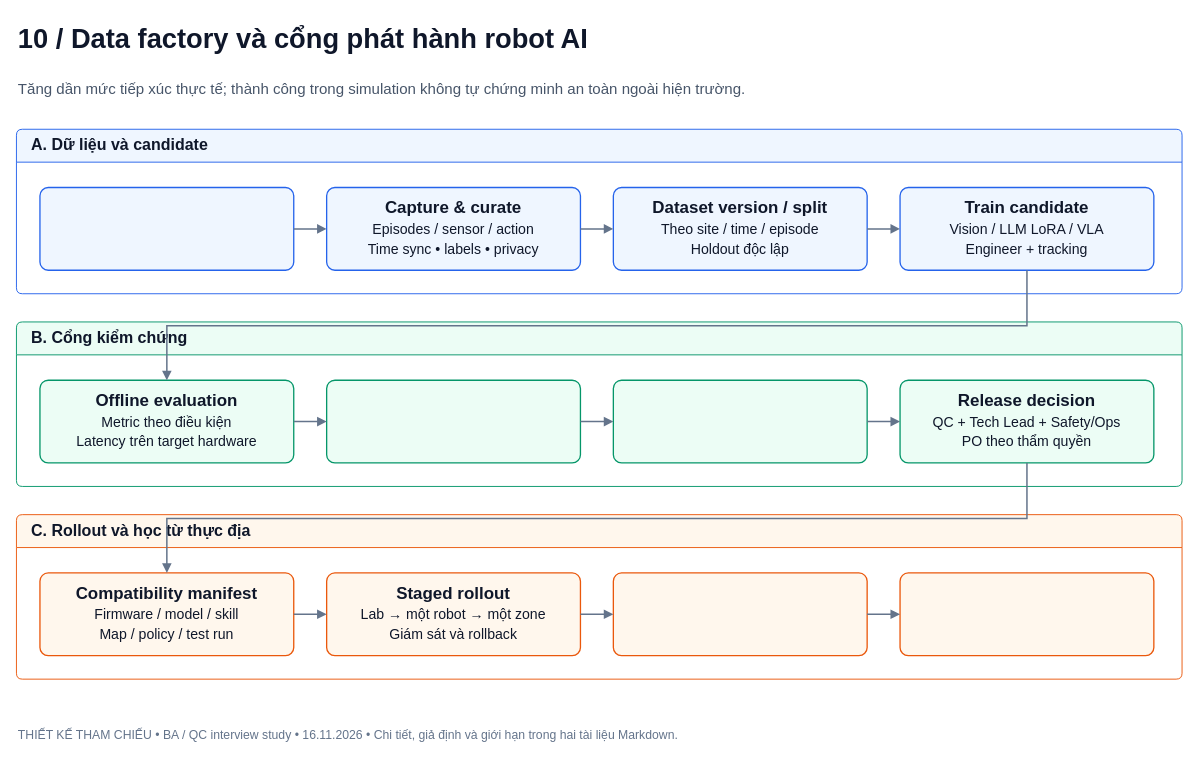
The diagram is 1199 pixels wide and 771 high, and some of its shapes have lost their labels. Here are the shapes that lost their labels. From the top down, the centre of each, then its label:
pixel 166 228: Task / ODD / rubric Success • abort • failure BA + Robotics + QC
pixel 453 421: Simulation / SIL Scenario + fault injection Kiểm tra integration
pixel 739 421: HIL / controlled field Hardware thật • protocol duyệt Physical outcome evidence
pixel 739 614: Field monitoring Intervention / false alarms Health / drift / task success
pixel 1026 614: Triage & re-validation Defect / gap / AI limitation Deployment issue → backlog
